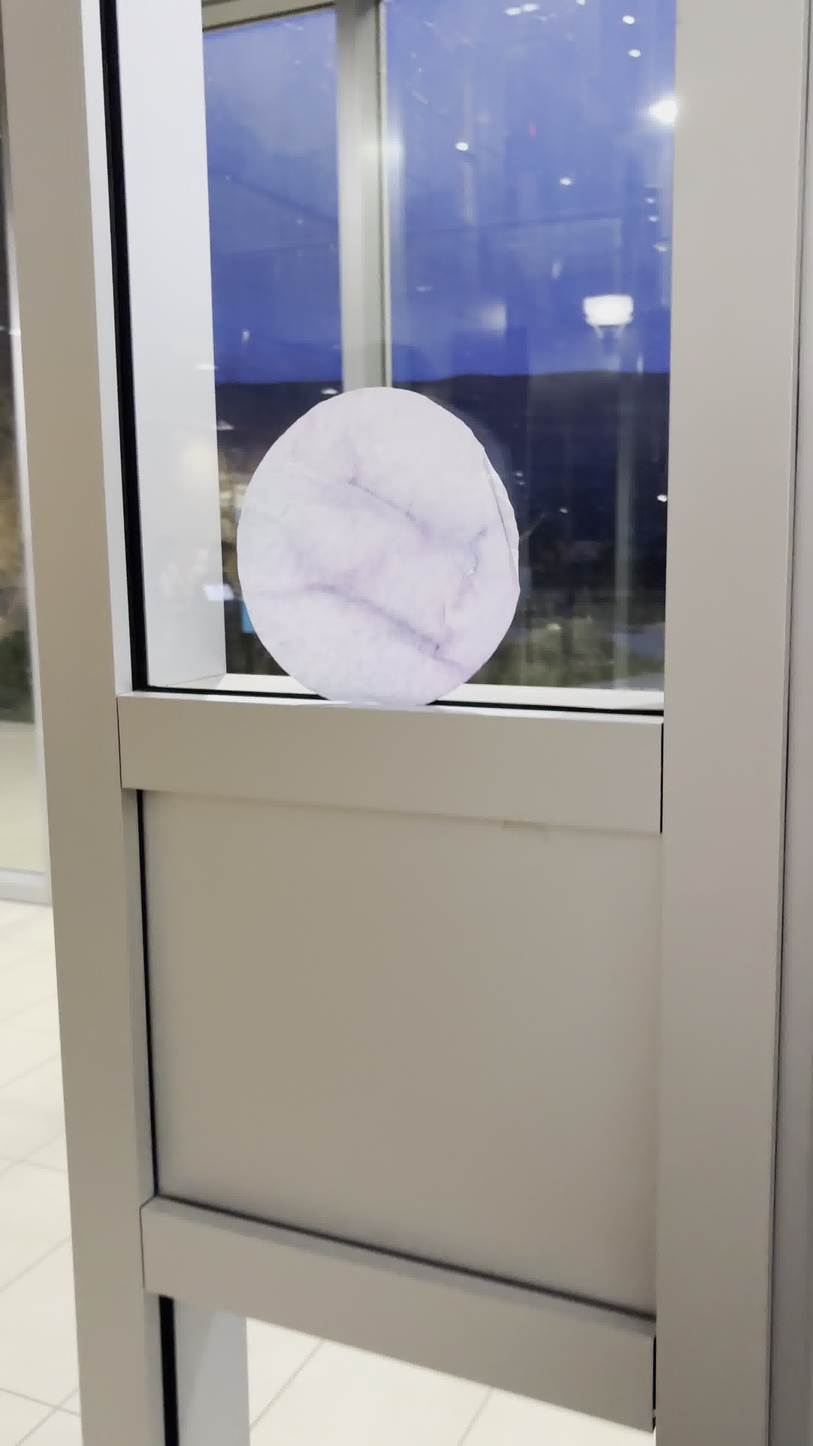Target: (230, 383, 525, 709)
